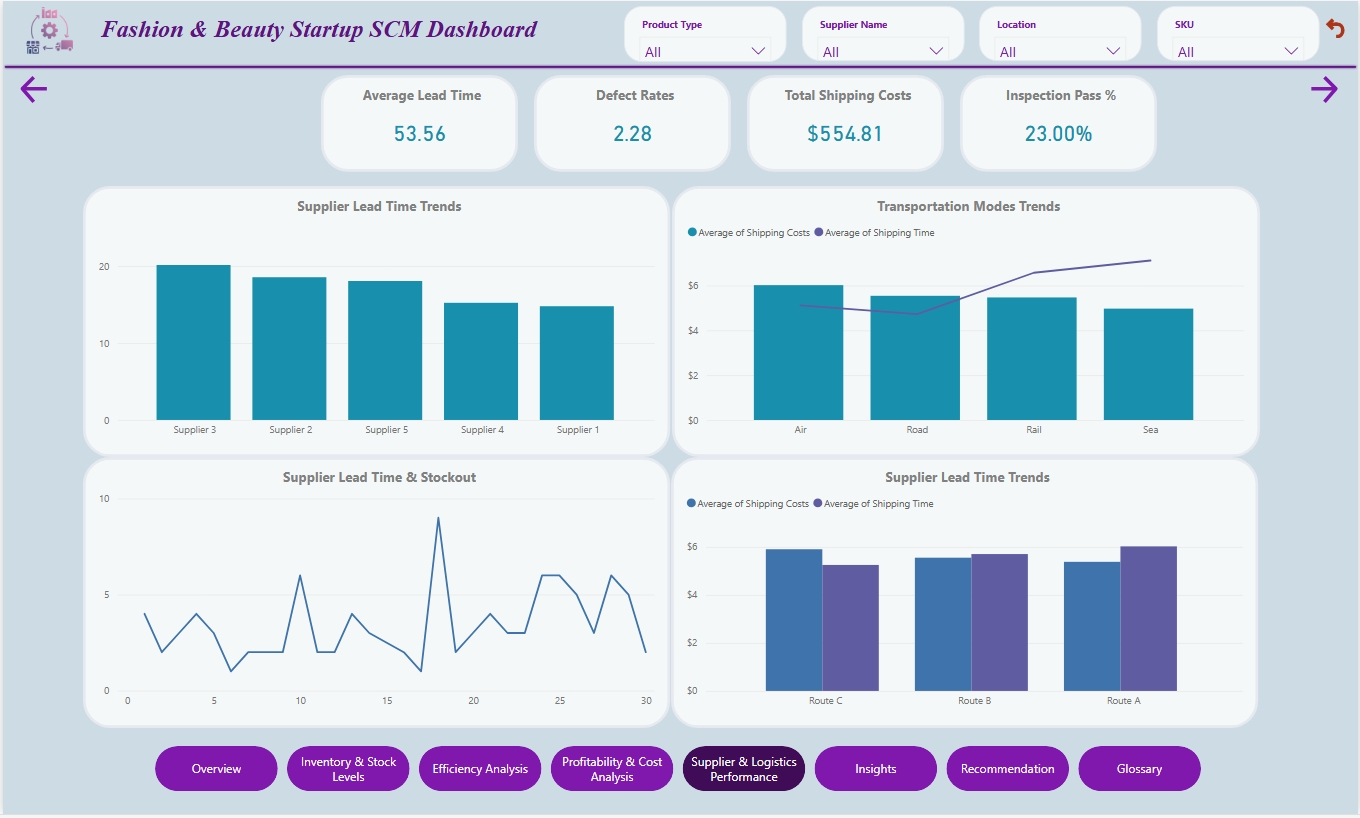

What the dashboard file says about the page in this screenshot:
{"tool":"powerbi","page":{"name":"Supplier & Logistics Performance","canvas":[1500,900],"ordinal":4},"visuals":[{"type":"textbox","box":[103.2,11,554.4,46],"z":0},{"type":"clusteredColumnChart","title":"Supplier Lead Time Trends","fields":{"Category":["supply_chain_data.Supplier Name"],"Y":["Avg(supply_chain_data.Supplier Lead Time)"]},"box":[88.8,205.2,650,300],"z":1000},{"type":"image","box":[0,0,103.2,65.1],"z":2000},{"type":"shape","box":[0,40,1500.4,66.2],"z":3000},{"type":"card","title":"Average Lead Time","fields":{"Values":["Avg(supply_chain_data.Total Lead Time)"]},"box":[351.6,81.9,217.7,106.6],"z":4000},{"type":"card","title":"Defect Rates","fields":{"Values":[" Measures.Avg. Defect Rate"]},"box":[587.9,81.9,217.7,106.6],"z":5000},{"type":"card","title":"Total Shipping Costs","fields":{"Values":["Sum(supply_chain_data.Shipping Costs)"]},"box":[824.1,81.9,217.7,106.6],"z":6000},{"type":"pageNavigator","box":[168.3,824.8,1162.6,50.5],"z":7000},{"type":"lineChart","title":"Supplier Lead Time & Stockout ","fields":{"Y":["CountNonNull(supply_chain_data.Stockout Risk)"],"Category":["supply_chain_data.Supplier Lead Time"]},"box":[88.8,504.9,650.5,299.8],"z":8000},{"type":"lineClusteredColumnComboChart","title":"Transportation Modes Trends","fields":{"Category":["supply_chain_data.Transportation Modes"],"Y":["Avg(supply_chain_data.Shipping Costs)"],"Y2":["Avg(supply_chain_data.Shipping Time)"]},"box":[740.2,205,651,300],"z":9000},{"type":"clusteredColumnChart","title":"Supplier Lead Time Trends","fields":{"Category":["supply_chain_data.Routes"],"Y":["Avg(supply_chain_data.Shipping Costs)","Avg(supply_chain_data.Shipping Time)"]},"box":[739.2,504.9,650.5,299.8],"z":10000},{"type":"slicer","fields":{"Values":["supply_chain_data.Product Type"]},"box":[687.6,5,180,62],"z":11000},{"type":"slicer","fields":{"Values":["supply_chain_data.Supplier Name"]},"box":[884.1,5,180,61.1],"z":12000},{"type":"slicer","fields":{"Values":["supply_chain_data.Location"]},"box":[1080.5,5,180,61.1],"z":13000},{"type":"slicer","fields":{"Values":["supply_chain_data.SKU"]},"box":[1277,5,180,61.1],"z":14000},{"type":"actionButton","box":[1460,0,40,60.5],"z":15000},{"type":"actionButton","box":[15.5,78.8,99.9,39.4],"z":16000},{"type":"actionButton","box":[1442.9,78.8,56.3,39.4],"z":17000},{"type":"card","title":"Inspection Pass %","fields":{"Values":[" Measures.Inspection Pass Rate"]},"box":[1059.8,82.2,217.8,106.6],"z":18000}]}

Visuals, with their boxes in screenshot pixels (x1, y1, x2, y2), scaled from the page's 1500x900 canvas onto the 1360x818 screenshot:
textbox: select_region(94, 10, 596, 52)
"Supplier Lead Time Trends" clusteredColumnChart: select_region(81, 187, 670, 459)
image: select_region(0, 0, 94, 59)
shape: select_region(0, 36, 1359, 97)
"Average Lead Time" card: select_region(319, 74, 516, 171)
"Defect Rates" card: select_region(533, 74, 730, 171)
"Total Shipping Costs" card: select_region(747, 74, 945, 171)
pageNavigator: select_region(153, 750, 1207, 796)
"Supplier Lead Time & Stockout " lineChart: select_region(81, 459, 670, 731)
"Transportation Modes Trends" lineClusteredColumnComboChart: select_region(671, 186, 1261, 459)
"Supplier Lead Time Trends" clusteredColumnChart: select_region(670, 459, 1260, 731)
slicer - supply_chain_data.Product Type: select_region(623, 5, 787, 61)
slicer - supply_chain_data.Supplier Name: select_region(802, 5, 965, 60)
slicer - supply_chain_data.Location: select_region(980, 5, 1143, 60)
slicer - supply_chain_data.SKU: select_region(1158, 5, 1321, 60)
actionButton: select_region(1324, 0, 1359, 55)
actionButton: select_region(14, 72, 105, 107)
actionButton: select_region(1308, 72, 1359, 107)
"Inspection Pass %" card: select_region(961, 75, 1158, 172)
